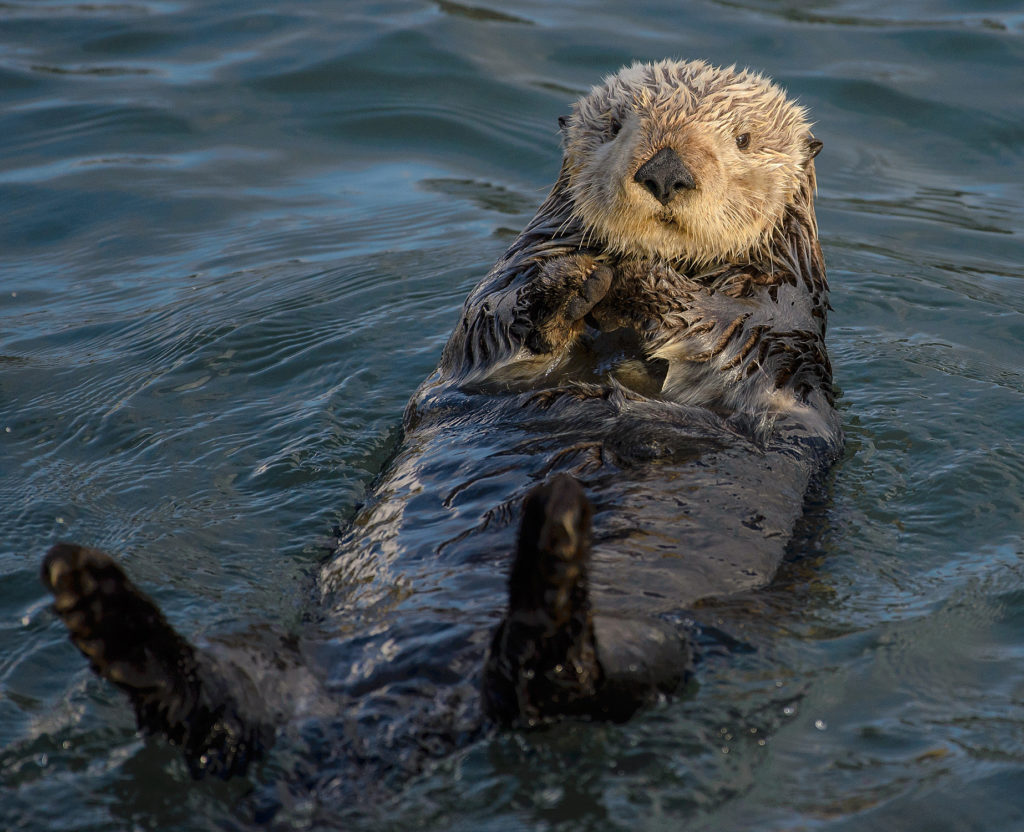otter: (474, 25, 913, 481)
